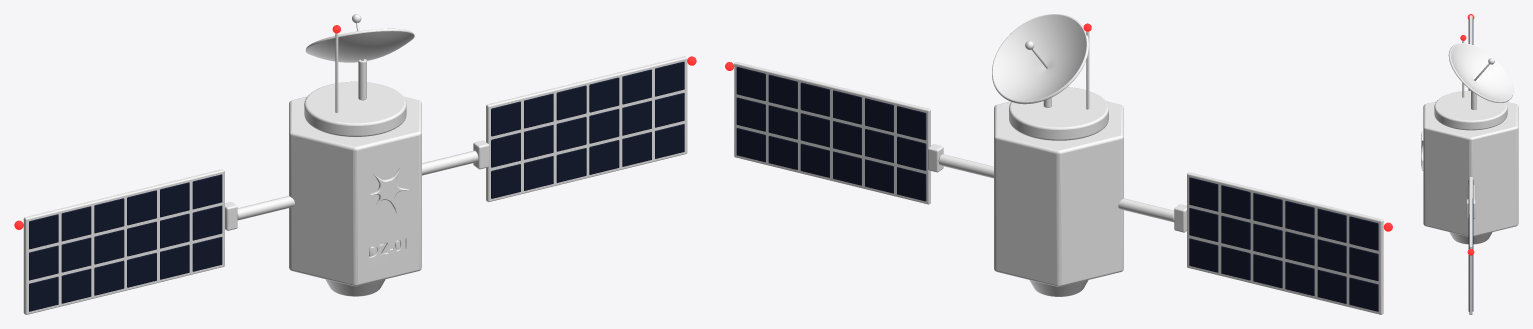
The model's file is probe-space.glb.
The picture shows the model from 3 angles, left to right: view 1: azimuth 30°, elevation 25°; view 2: azimuth 150°, elevation 25°; view 3: azimuth 270°, elevation 25°; orthographic projection. The views are drawn at different scales.
Parts seen in each view (by area): view 1: Body, Cells-1, Cells1, Wing-1, Wing1, TopCap, Dish, Strut-1, Strut1, Nozzle, Emblem; view 2: Body, Cells-1, Cells1, Dish, Wing-1, Wing1, TopCap, Strut-1, Strut1, Nozzle; view 3: Body, Dish, TopCap, Wing1, Cells1, Nozzle, Wing-1, Emblem, Hinge1, Mast, Cells-1, Strut1.
Boxes of the visible parts, x1,y1,x2,y2 form: Body: (289,96,421,286); Cells-1: (29,174,222,311); Cells1: (491,61,684,198); Wing-1: (23,169,224,314); Wing1: (486,56,687,202); TopCap: (304,81,406,136); Dish: (305,28,414,62); Strut-1: (237,196,294,220); Strut1: (422,150,478,175); Nozzle: (325,279,385,296); Emblem: (370,167,409,212); Body: (994,101,1123,286); Cells-1: (1189,177,1378,311); Cells1: (736,67,926,201); Dish: (992,14,1088,104); Wing-1: (1187,172,1383,314); Wing1: (734,62,930,204); TopCap: (1009,87,1108,140); Strut-1: (1118,198,1174,222); Strut1: (938,154,993,178); Nozzle: (1029,280,1088,296); Body: (1423,101,1518,236); Dish: (1448,43,1513,102); TopCap: (1434,90,1507,130); Wing1: (1469,177,1472,314); Cells1: (1468,180,1473,311); Nozzle: (1449,232,1492,244); Wing-1: (1469,15,1472,90); Emblem: (1421,130,1423,170); Hinge1: (1466,199,1475,218); Mast: (1471,81,1476,109); Cells-1: (1468,19,1473,90); Strut1: (1466,185,1475,199).
Bounding box in the file's own units: 3.69 × 1.4 × 0.6365.
